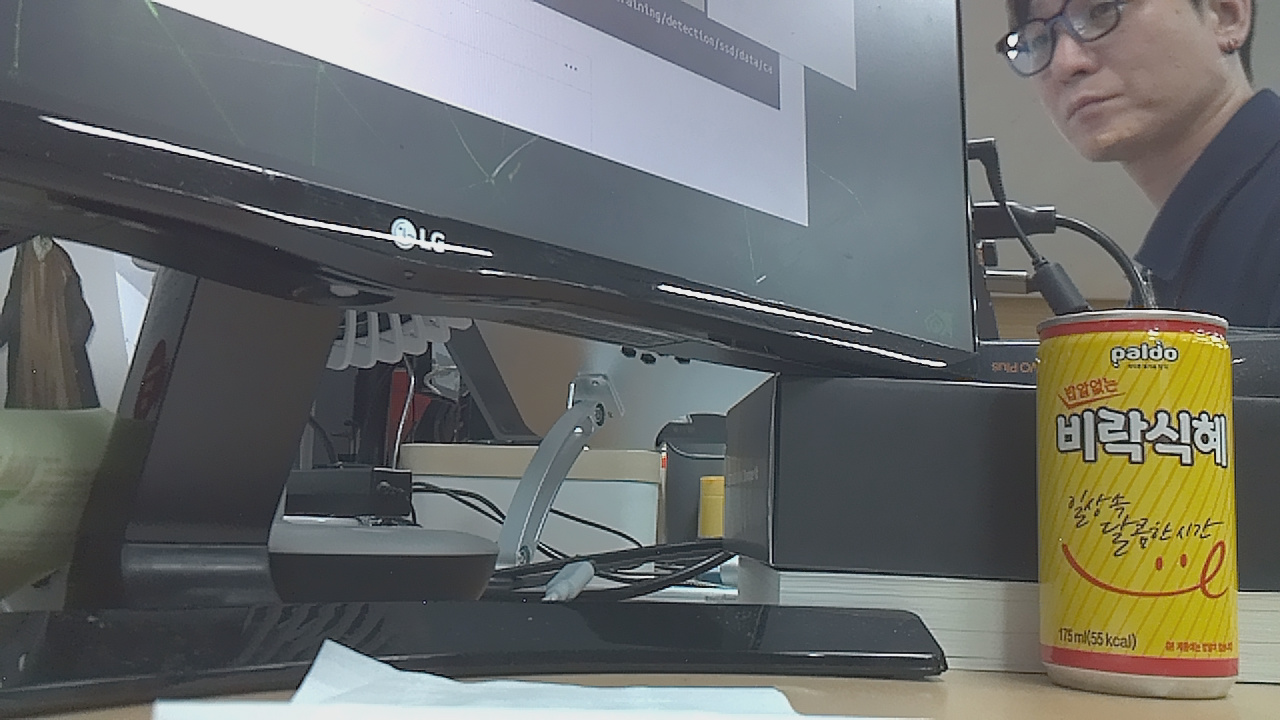paldo shikhye: (1018, 295, 1249, 708)
